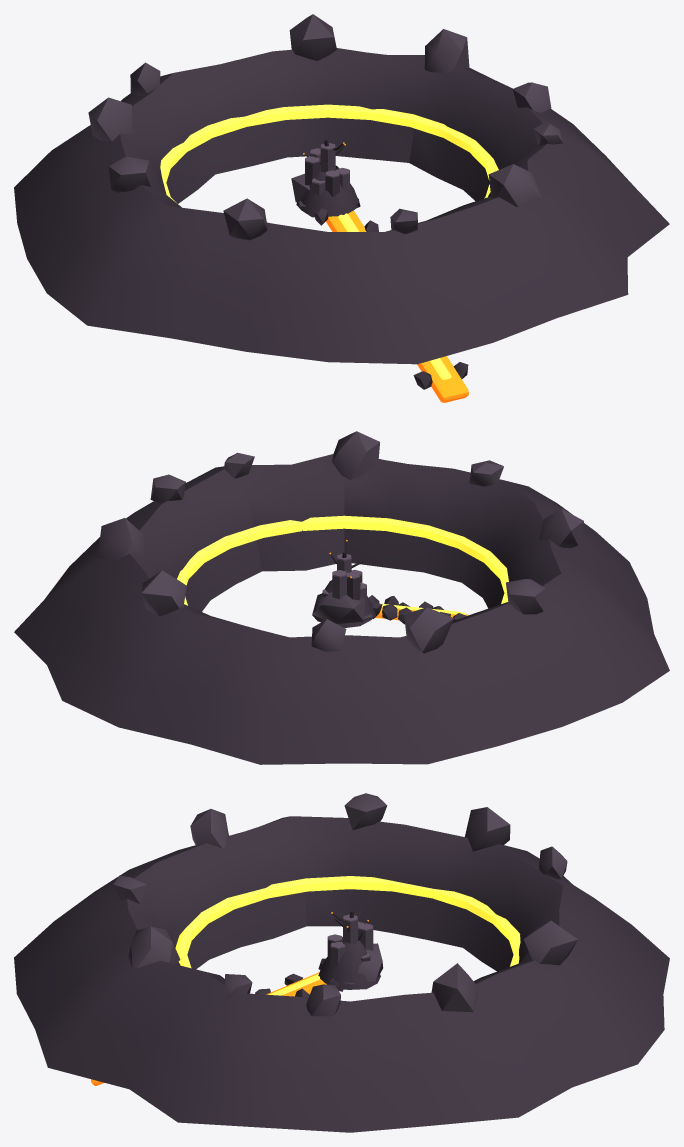
Rendered from lava.glb.
3 renders of one model, top to bottom at view 1: azimuth 30°, elevation 25°; view 2: azimuth 150°, elevation 25°; view 3: azimuth 270°, elevation 25°, orthographic.
Visible parts, largest first — view 1: volcano_rim, lava_fall, basalt_a, smoke_vent; view 2: volcano_rim, lava_fall, basalt_a; view 3: volcano_rim, lava_fall, smoke_vent, basalt_a.
Part boxes in pixels (x1,y1,x2,y2): volcano_rim: (14,14,669,364); lava_fall: (291,173,468,402); basalt_a: (305,142,349,197); smoke_vent: (296,165,360,217); volcano_rim: (14,431,669,764); lava_fall: (312,591,469,624); basalt_a: (322,554,366,600); volcano_rim: (14,793,669,1132); lava_fall: (91,943,383,1085); smoke_vent: (318,937,380,989); basalt_a: (327,914,373,967).
Size of the model in its own units: 41.64 by 14.14 by 41.68.
